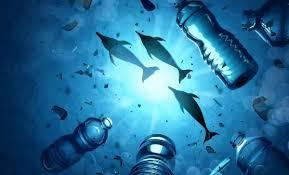Plastic: (169, 1, 260, 89), (35, 112, 121, 175), (219, 119, 289, 175), (123, 122, 182, 175)
